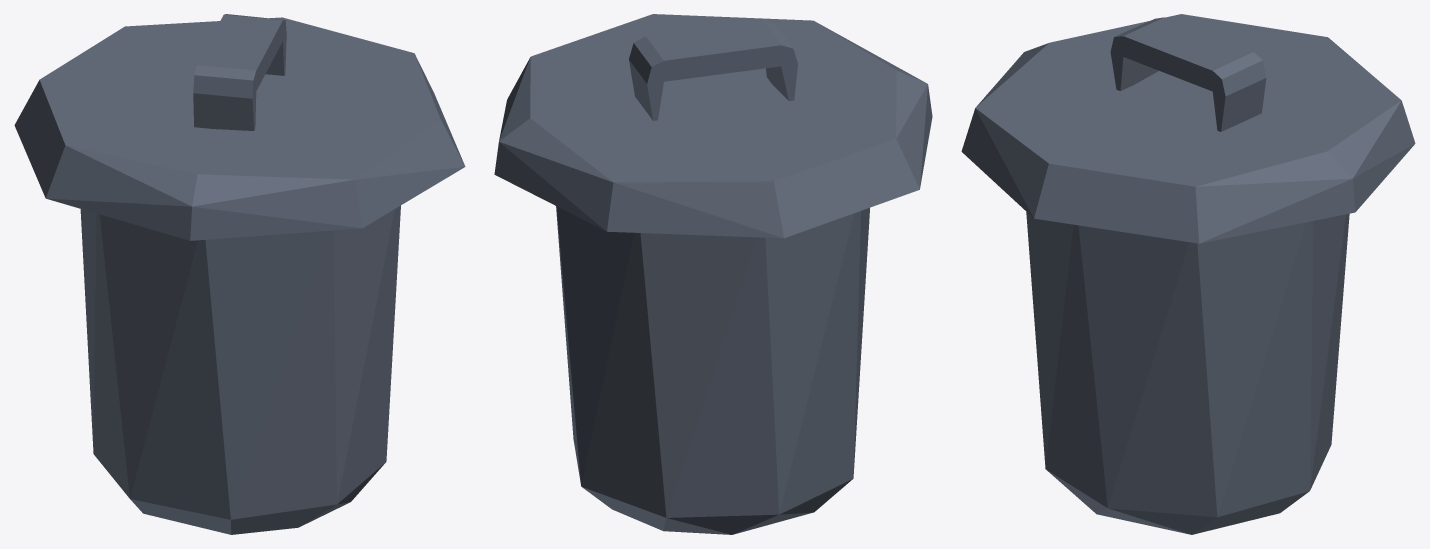
Rendered from Trash Box 2 Fractured.fbx.
3 views of the same model, side by side, from view 1: azimuth 30°, elevation 25°; view 2: azimuth 150°, elevation 25°; view 3: azimuth 270°, elevation 25° (orthographic).
Parts seen in each view (by area): view 1: Trash_Box_02_Breaking, Trash_Box_02_Breaking.001; view 2: Trash_Box_02_Breaking, Trash_Box_02_Breaking.001; view 3: Trash_Box_02_Breaking, Trash_Box_02_Breaking.001.
Boxes of the visible parts, left/top/right/bottom form: Trash_Box_02_Breaking: left=14, top=14, right=465, bottom=281; Trash_Box_02_Breaking.001: left=80, top=209, right=397, bottom=534; Trash_Box_02_Breaking: left=494, top=14, right=932, bottom=279; Trash_Box_02_Breaking.001: left=560, top=208, right=869, bottom=534; Trash_Box_02_Breaking: left=961, top=14, right=1415, bottom=332; Trash_Box_02_Breaking.001: left=1028, top=214, right=1349, bottom=534.
Size of the model in its own units: 51.5 by 55.03 by 51.02.
